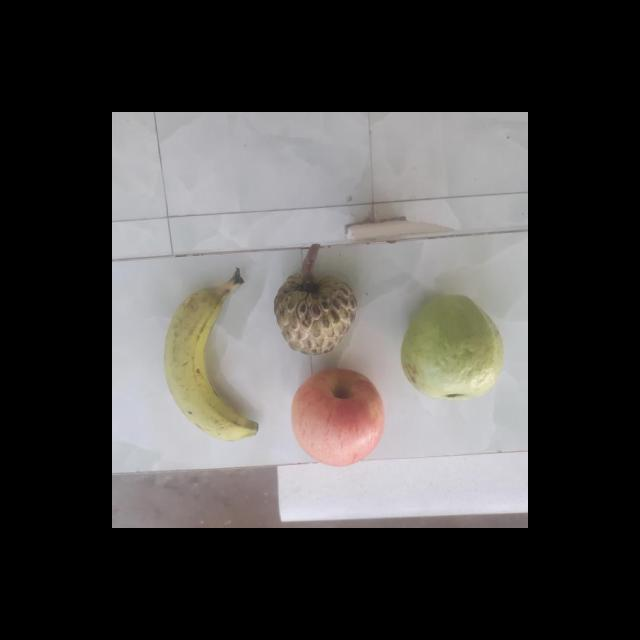Sakya fruit: (275, 262, 361, 355)
apple: (289, 368, 386, 466)
banana: (164, 278, 260, 440)
guava: (404, 296, 505, 397)
